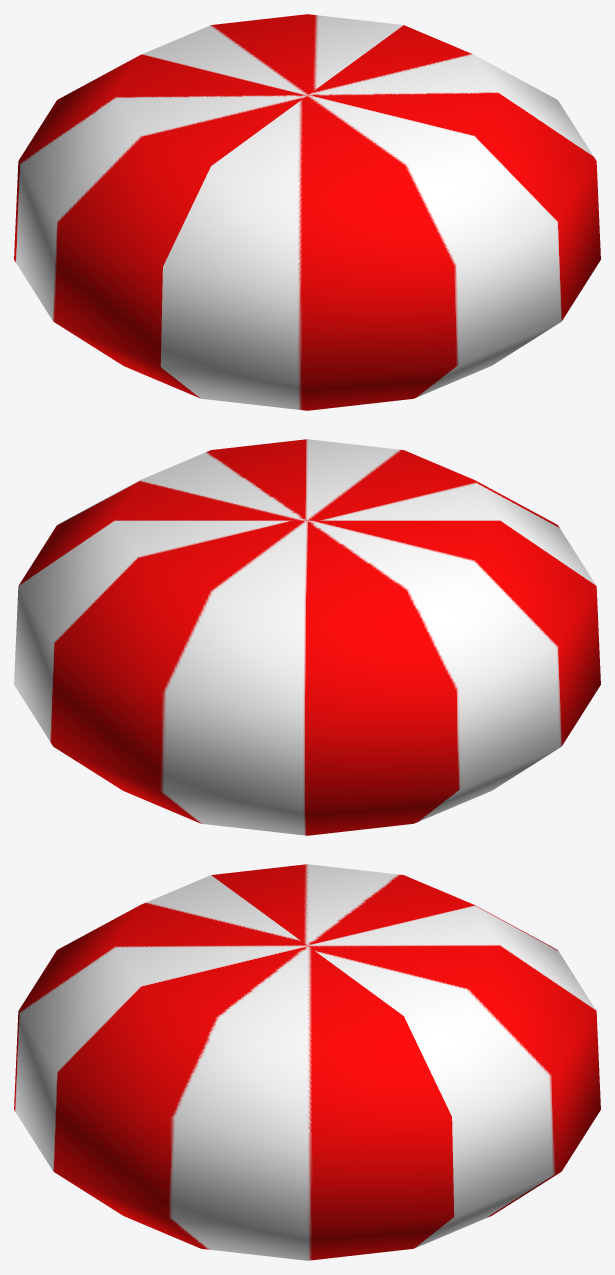
File: Peppermint.FBX
3 renders of one model, top to bottom at view 1: azimuth 30°, elevation 25°; view 2: azimuth 150°, elevation 25°; view 3: azimuth 270°, elevation 25°, orthographic.
Visible parts, largest first — view 1: Peppermint; view 2: Peppermint; view 3: Peppermint.
Boxes of the visible parts, x1,y1,x2,y2 form: Peppermint: [14, 14, 600, 410]; Peppermint: [14, 439, 600, 835]; Peppermint: [14, 864, 600, 1260].
Bounding box in the file's own units: 168 × 71.15 × 168.
